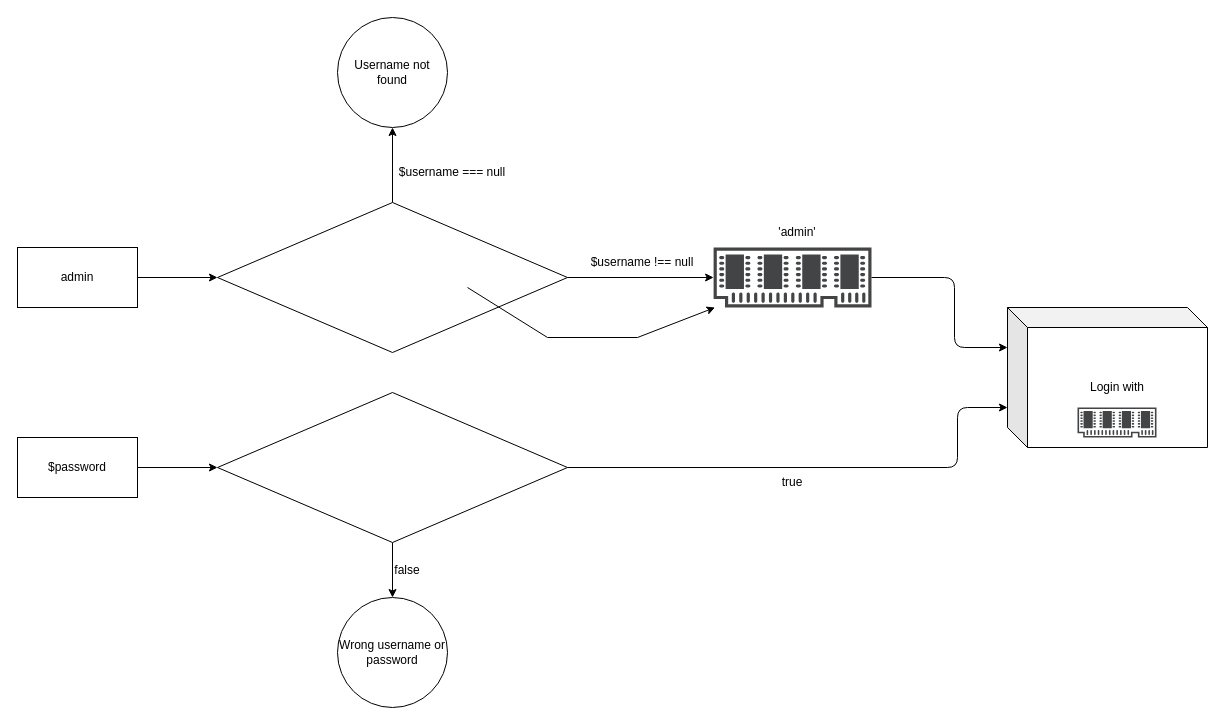
The diagram is 1225 pixels wide and 725 high, and some of its shapes have lost their labels. Here are the shapes that lost their labels. From the top down, the centre of each, then its label:
pixel 392 277: SELECT username, password FROM users WHERE username='admin'
pixel 392 467: $login_password !== md5($password)
